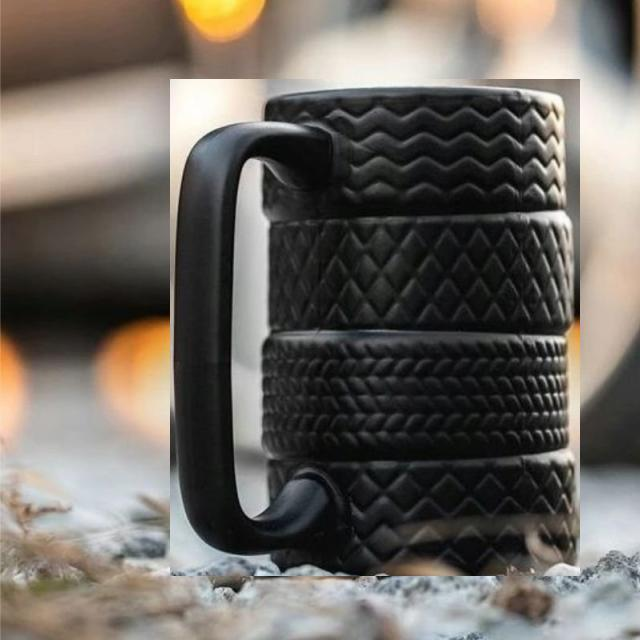Coffee Mug: (174, 86, 577, 571)
